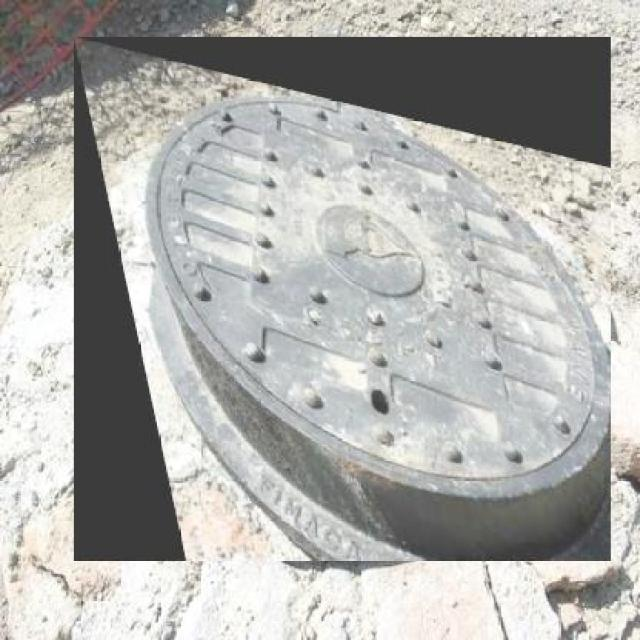Manhole: (74, 37, 611, 560)
